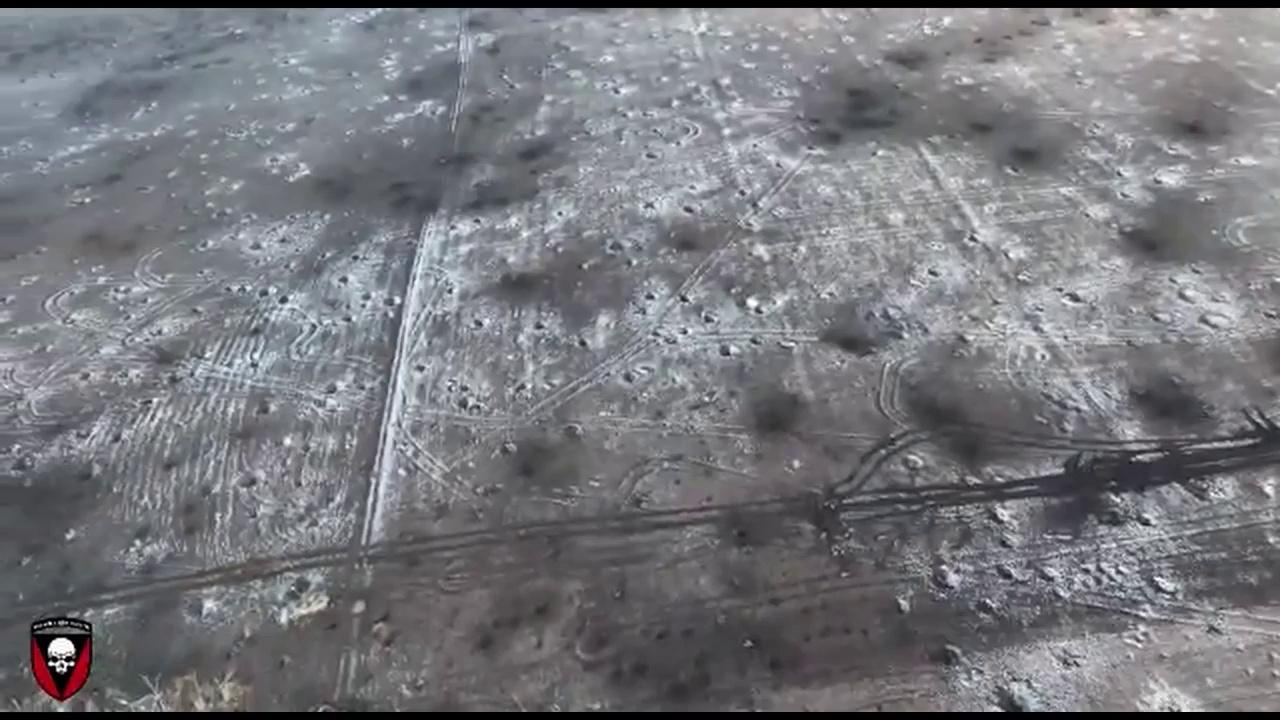vehicle: (822, 496, 841, 511)
